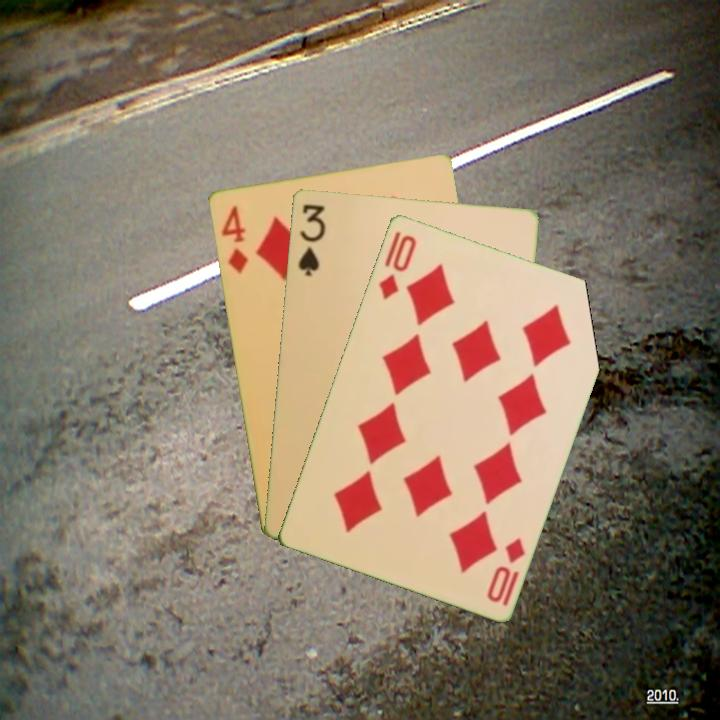10d: (375, 227, 419, 303), (483, 533, 528, 605)
3s: (294, 200, 328, 278)
4d: (217, 202, 250, 276)
